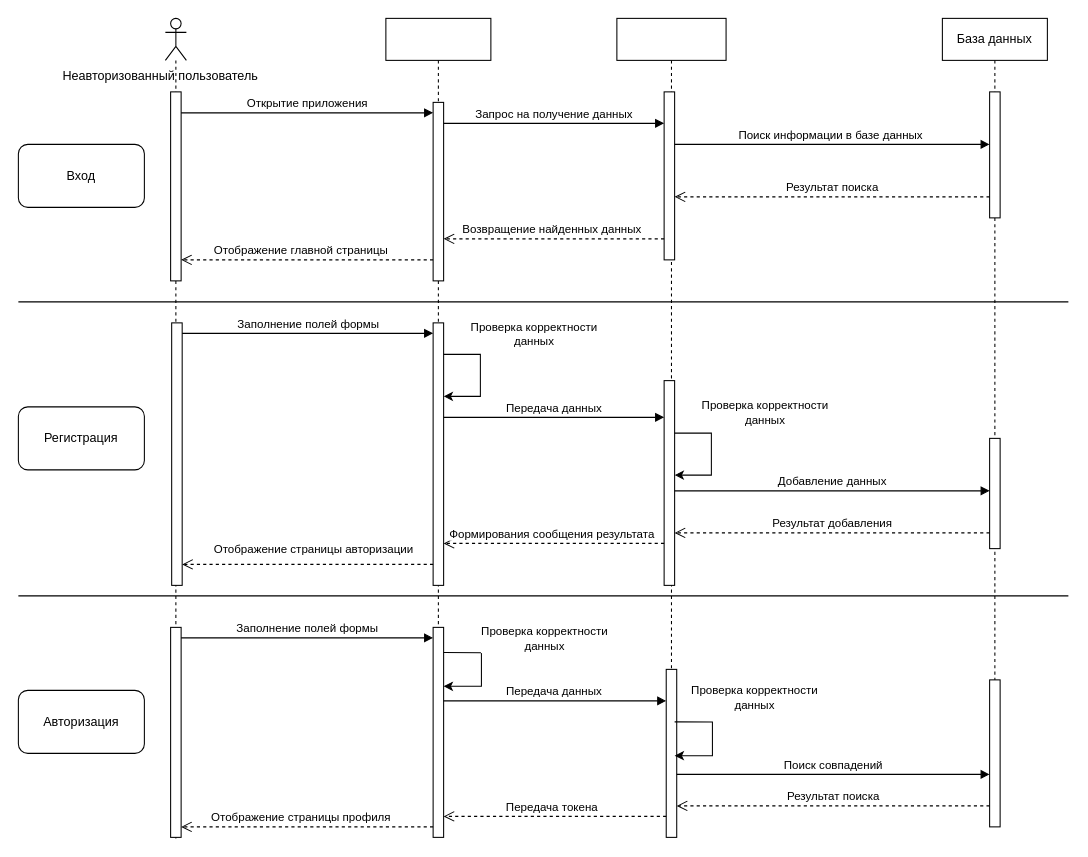
Image size: 1088x857. Some labels were removed from this diagram. The shapes that lost their labels are listed below. From the top down, each one's box as (x1, y1, x2, y2) in pixels, then its label:
(385, 17, 491, 836): Клиент
(616, 17, 726, 836): Сервер
